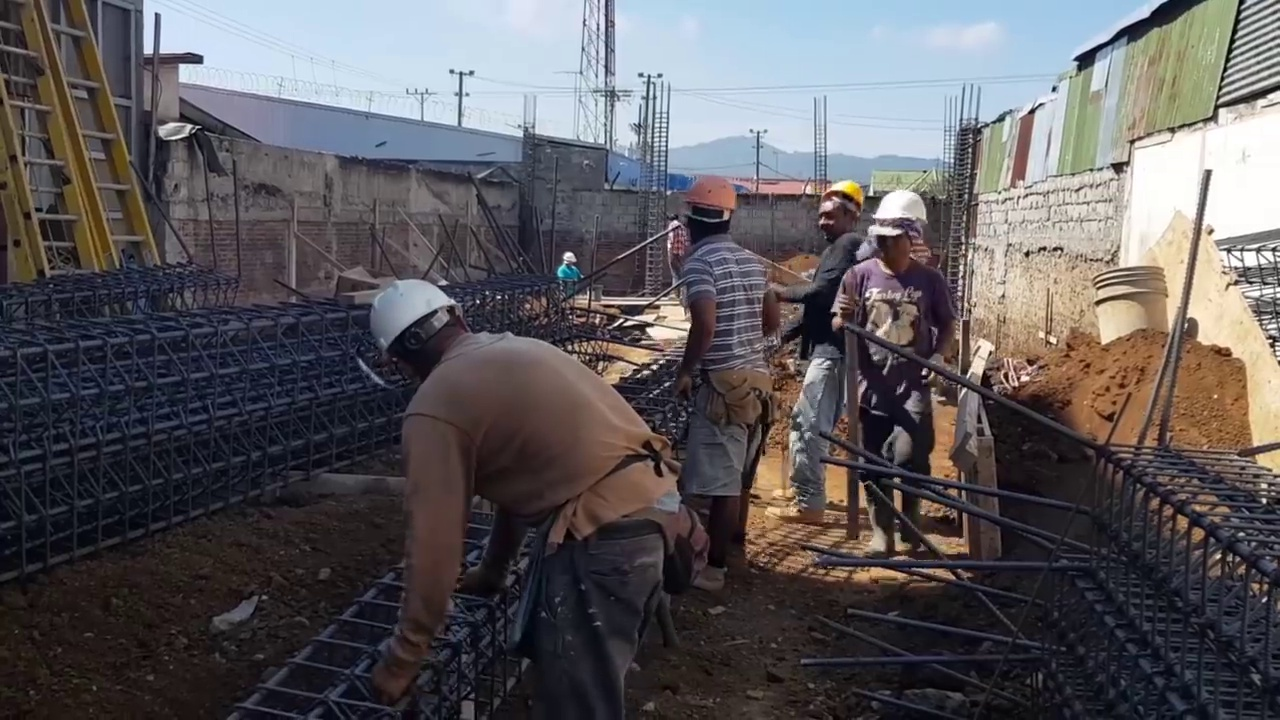helmet: (359, 283, 461, 373), (868, 190, 928, 238), (671, 175, 736, 218), (821, 178, 865, 213), (563, 253, 577, 264)
helmet-off: (666, 210, 679, 224)
helmet-on: (358, 275, 478, 392), (673, 174, 738, 251), (869, 188, 927, 271), (816, 178, 865, 243), (561, 253, 577, 270)
person: (358, 279, 690, 713), (838, 177, 964, 560), (669, 196, 775, 589), (778, 175, 871, 562), (665, 212, 691, 298), (555, 255, 582, 285)
